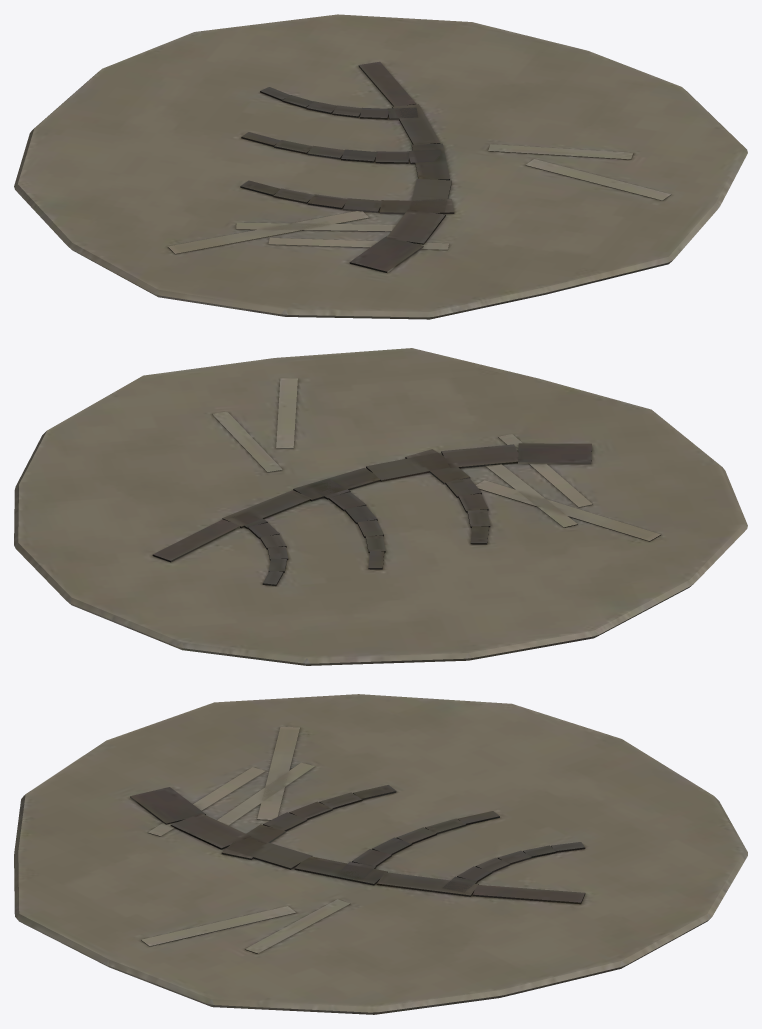
File: camp_mark_glasshorn.glb
The picture shows the model from 3 angles, top to bottom: view 1: azimuth 30°, elevation 25°; view 2: azimuth 150°, elevation 25°; view 3: azimuth 270°, elevation 25°; orthographic projection. The views are drawn at different scales.
Parts seen in each view (by area): view 1: camp_mark_glasshorn_body; view 2: camp_mark_glasshorn_body; view 3: camp_mark_glasshorn_body.
Part boxes in pixels (x1,y1,x2,y2): camp_mark_glasshorn_body: (14,14,747,319); camp_mark_glasshorn_body: (14,348,747,665); camp_mark_glasshorn_body: (14,694,747,1014).
Size of the model in its own units: 1.73 by 0.0245 by 1.69.
1 material, 1 textured.
